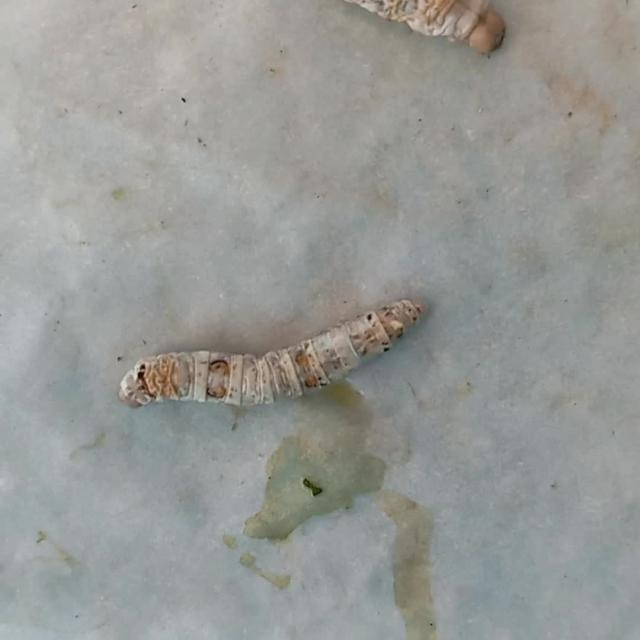Grasserie: (103, 288, 426, 417)
